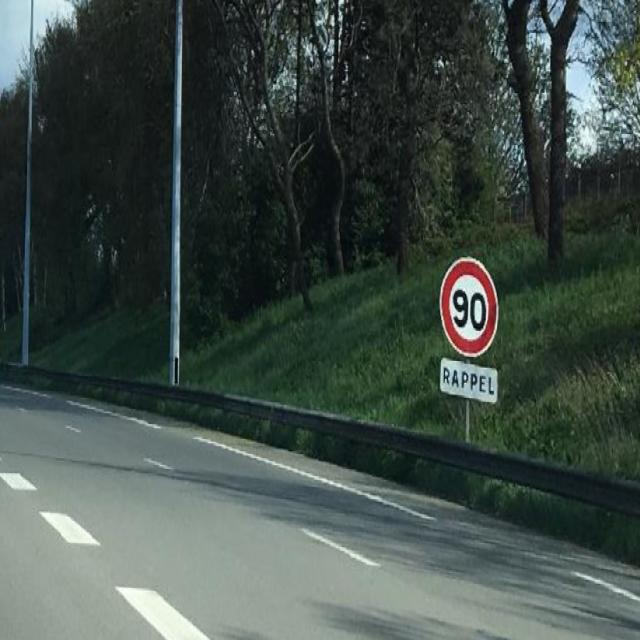speed_90: (442, 257, 498, 356)
